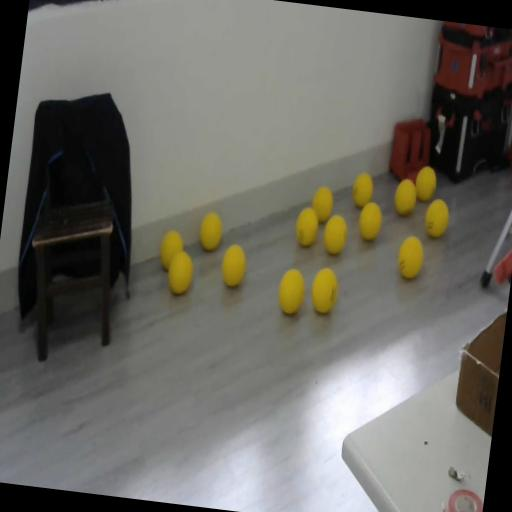FUEL: (308, 264, 341, 316), (275, 266, 308, 316), (394, 234, 426, 282), (165, 248, 196, 296), (218, 242, 248, 290), (321, 212, 349, 257), (356, 200, 384, 244), (293, 206, 321, 248), (423, 198, 451, 240), (309, 184, 336, 226), (392, 176, 419, 218), (198, 211, 224, 252), (350, 172, 376, 208), (414, 164, 438, 202)
